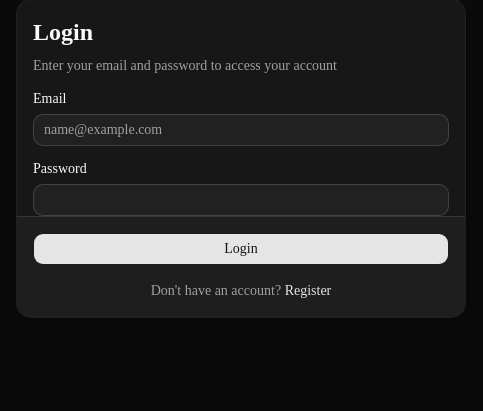
Test: LoginForm › displays server error message
The image size is (483, 411).
Type "test@example.com" into the field labelled "Email".
click(241, 130); type("test@example.com")  # box [33,114,449,146]
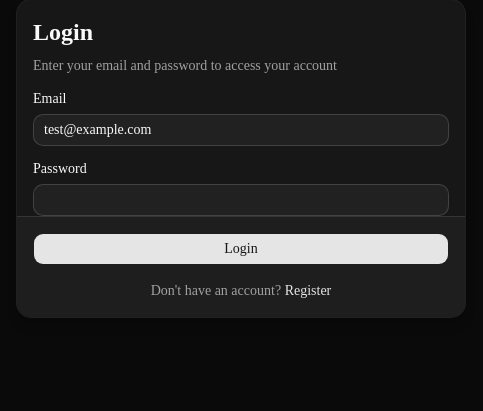
Type "password123" into the password field labelled "Password".
click(241, 200); type("password123")  # box [33,184,449,216]
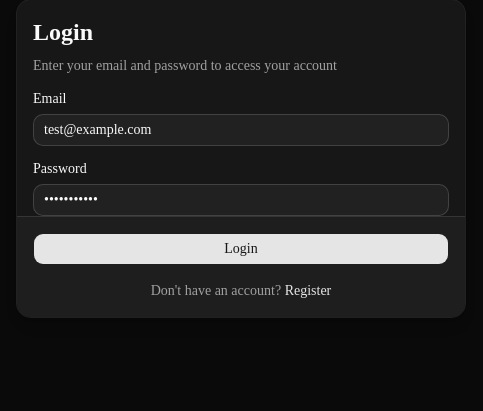
Click the button "Login".
click(241, 249)  # box [33,233,449,265]
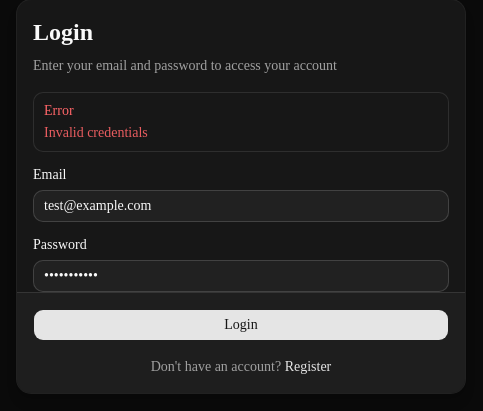
Check: the text "Invalid credentials" is shown, box [44,125,148,140]
